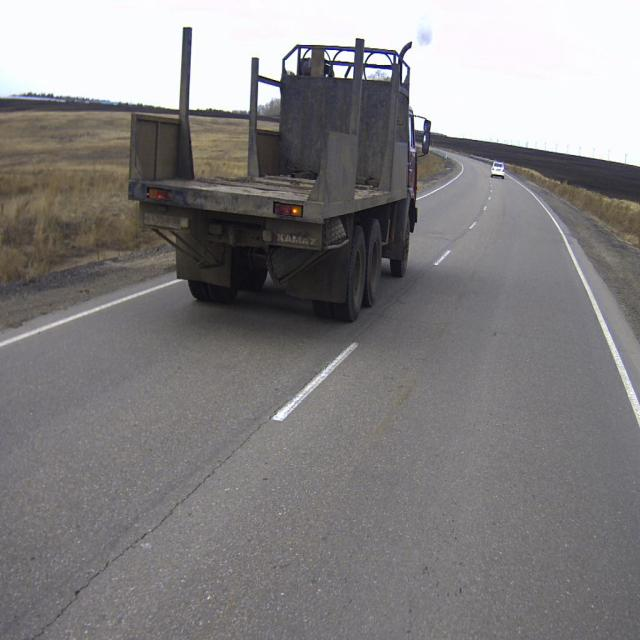road: (0, 152, 640, 639), (385, 259, 387, 263)
